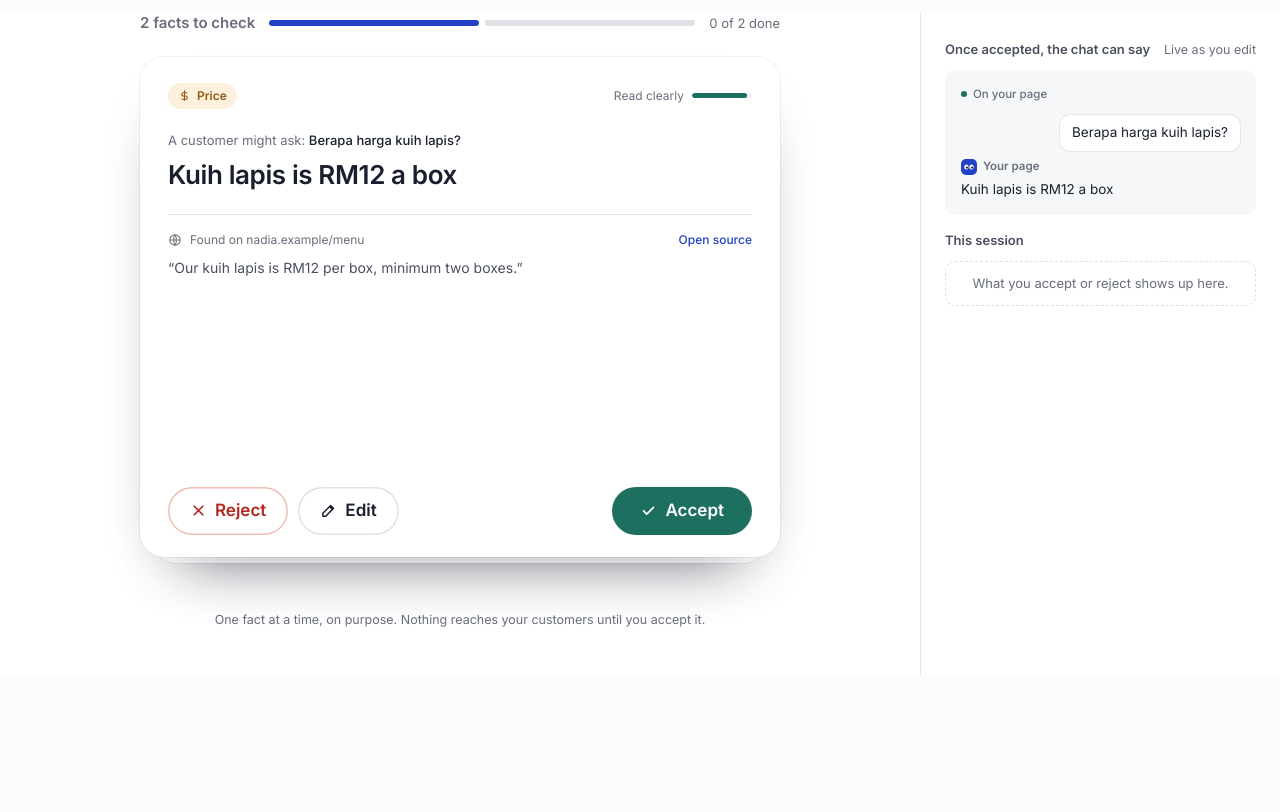
ReviewQueue › renders the API’s own sentence when an edit collides with an existing fact
The width and height of the screenshot is (1280, 812).
Click the button "Edit": (348, 510) [298,486,399,534]
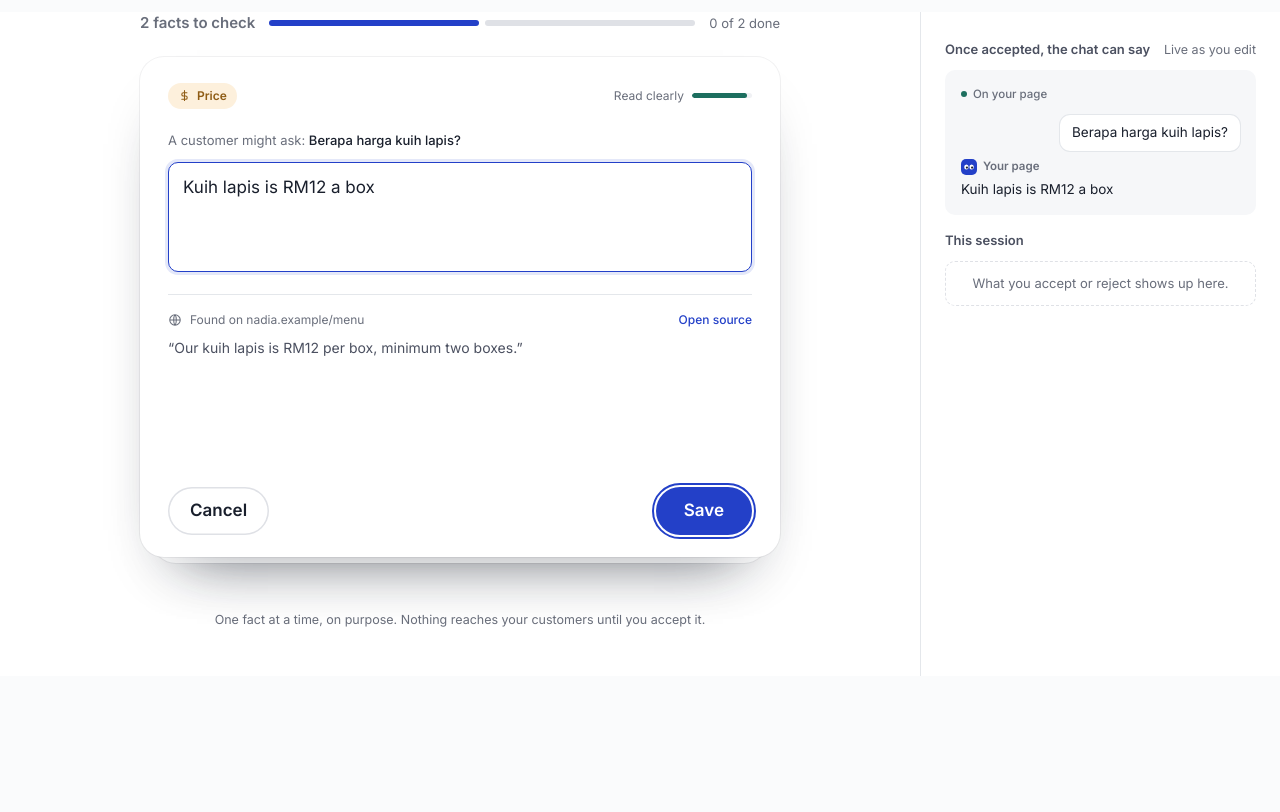
Replace the text in the text box with "Kuih lapis is RM14 a box": (460, 217) [168,162,752,272]
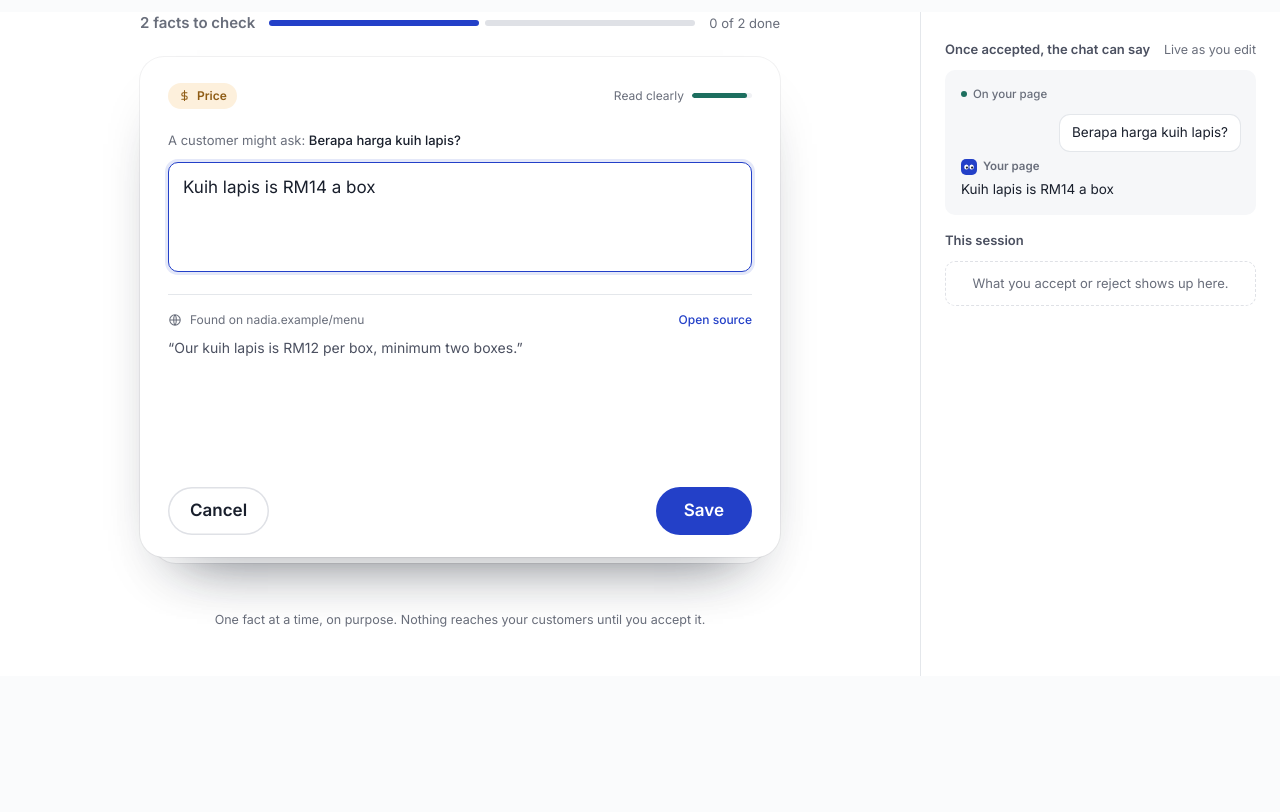
Click the button "Save": (704, 510) [656,486,752,534]
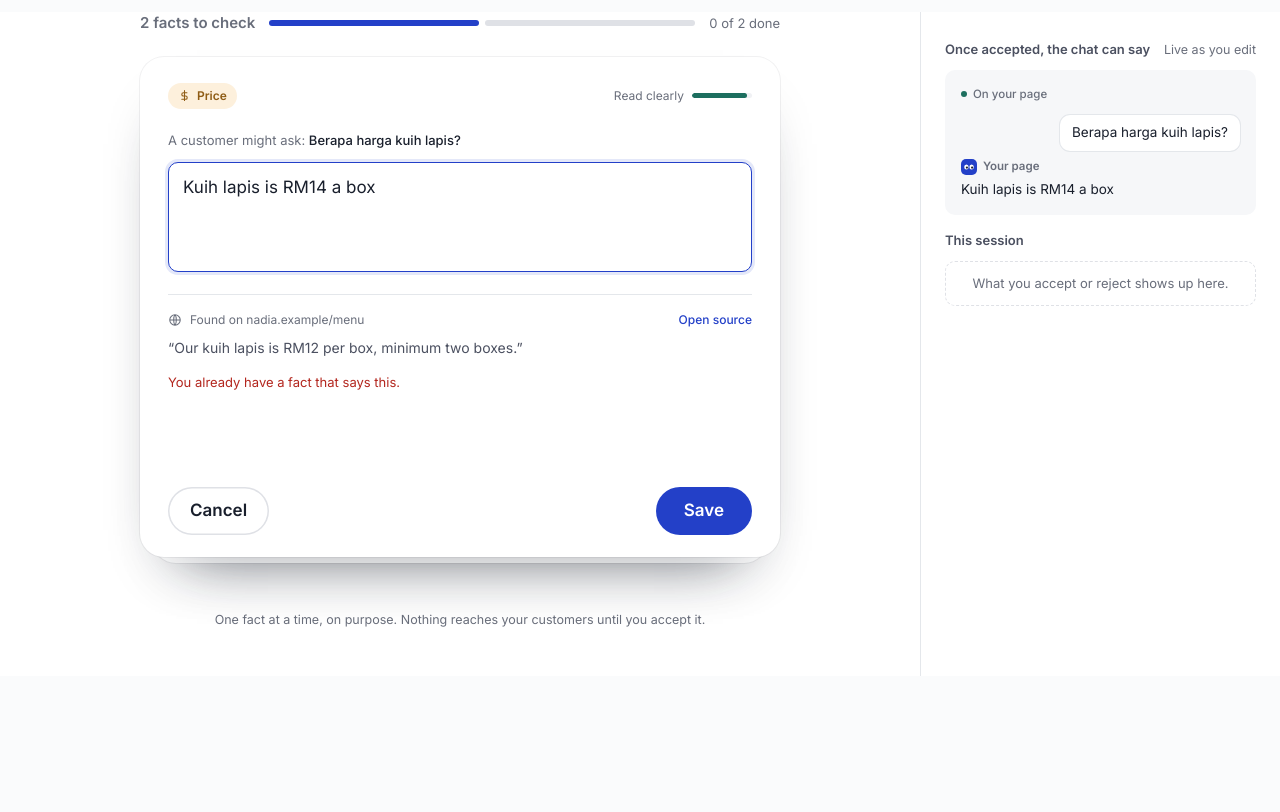
Result: the text "You already have a fact that says this." is shown at [168,374,400,390]
